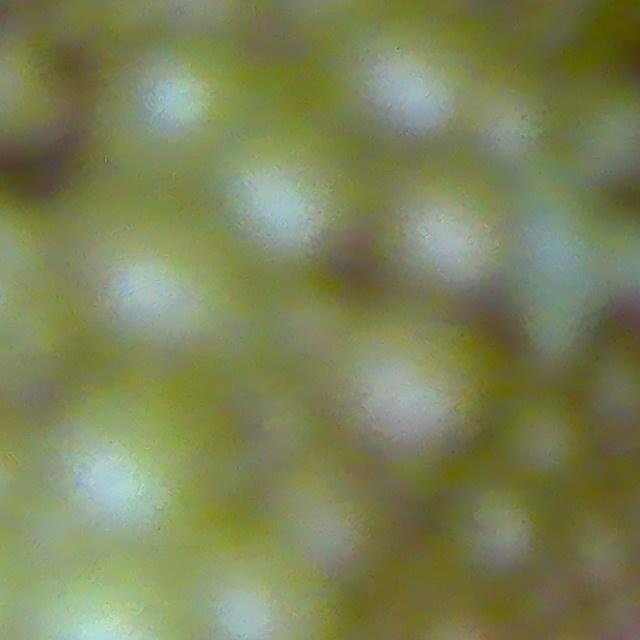SeaGrape: (59, 375, 254, 556), (72, 186, 236, 362), (352, 319, 487, 472), (344, 4, 478, 143), (114, 24, 250, 156), (216, 130, 355, 255), (381, 161, 509, 294), (453, 479, 552, 579), (497, 390, 596, 489), (563, 64, 640, 189), (209, 564, 328, 640), (585, 343, 640, 430)
